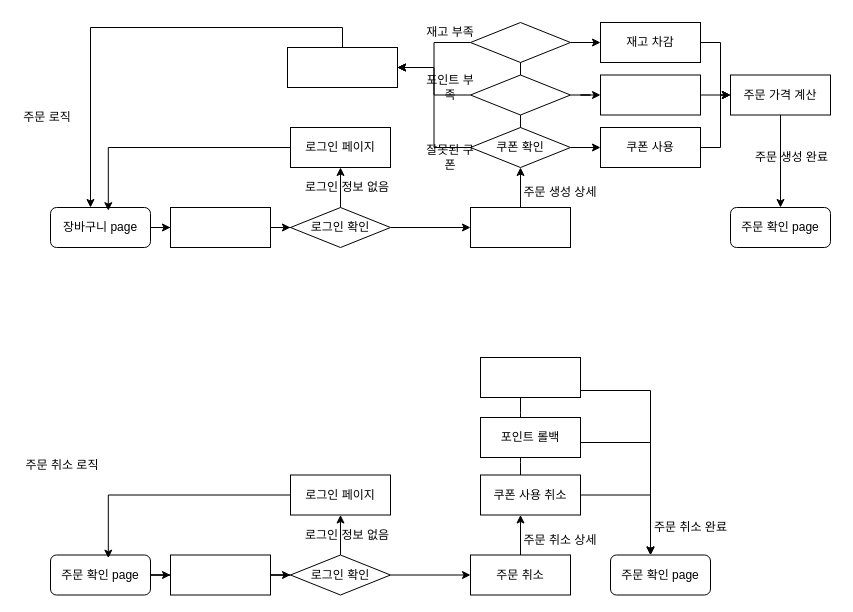
Image size: 853x612. Some labels were removed from this diagram. Here are the shapes that lost their labels. From the top down, the centre of each, then its label:
At (520,42): "재고 확인".
At (342,67): "장바구니에 원인 표시".
At (520,94): "포인트 확인".
At (650,94): "포인트 차감".
At (220,227): "주문하기 버튼 클릭".
At (520,227): "주문 확인".
At (530,377): "재고 롤백".
At (220,574): "사용자 주문 취소하기 버튼".
